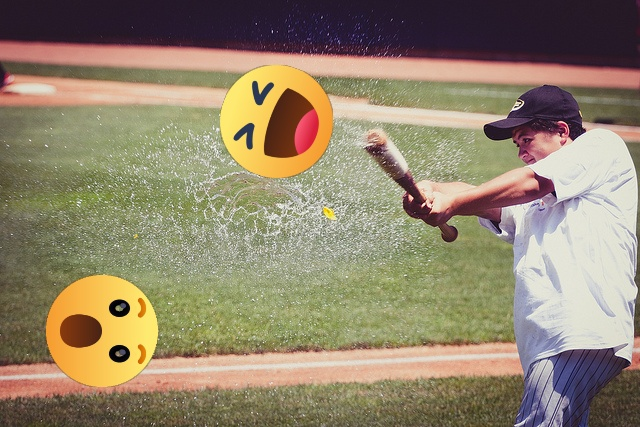haha: (220, 65, 333, 178)
wow: (46, 275, 158, 387)
